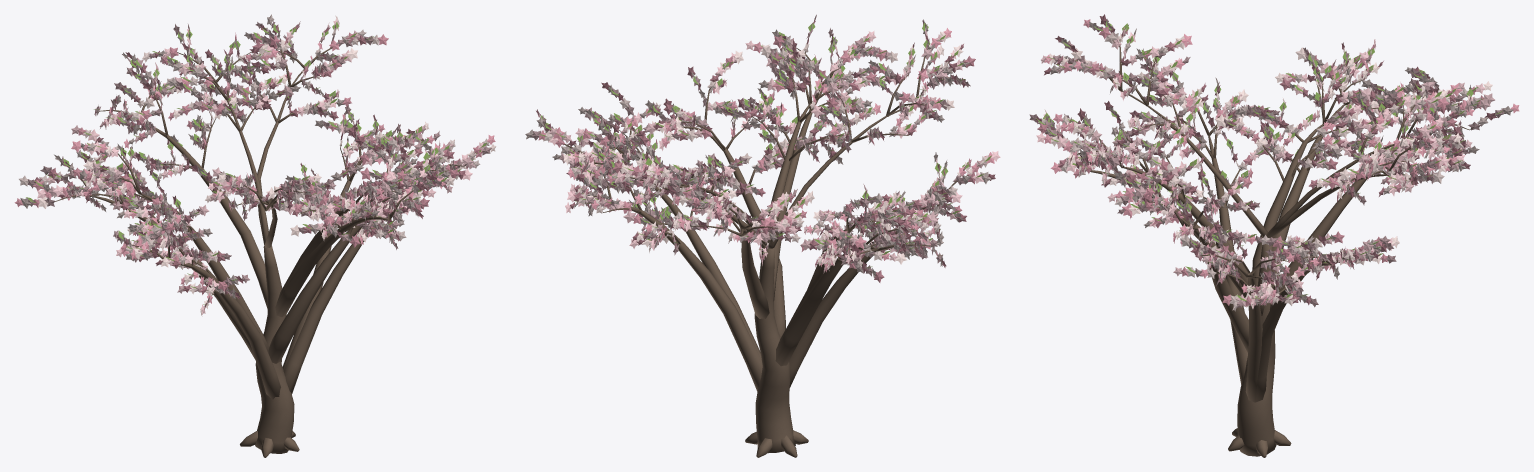
File: ciliegio.glb
3 views of the same model, side by side, from view 1: azimuth 30°, elevation 25°; view 2: azimuth 150°, elevation 25°; view 3: azimuth 270°, elevation 25° (orthographic). The views are drawn at different scales.
Parts seen in each view (by area): view 1: cherry_blossom connected crown 3, cherry_blossom connected crown 1, cherry_blossom connected crown 2, cherry_blossom small emerging leaves 1, cherry_blossom irregular trunk, cherry_blossom spreading bough 1, cherry_blossom spreading bough 6, cherry_blossom spreading bough 5, cherry_blossom spreading bough 7, cherry_blossom spreading bough 3, cherry_blossom spreading bough 2, cherry_blossom attached fine twigs (+5 smaller); view 2: cherry_blossom connected crown 2, cherry_blossom connected crown 3, cherry_blossom connected crown 1, cherry_blossom irregular trunk, cherry_blossom small emerging leaves 1, cherry_blossom spreading bough 9, cherry_blossom spreading bough 10, cherry_blossom spreading bough 5, cherry_blossom spreading bough 6, cherry_blossom spreading bough 1, cherry_blossom spreading bough 7, cherry_blossom spreading bough 3 (+3 smaller); view 3: cherry_blossom connected crown 3, cherry_blossom connected crown 1, cherry_blossom connected crown 2, cherry_blossom small emerging leaves 1, cherry_blossom irregular trunk, cherry_blossom spreading bough 1, cherry_blossom spreading bough 2, cherry_blossom spreading bough 9, cherry_blossom spreading bough 5, cherry_blossom spreading bough 6, cherry_blossom spreading bough 7, cherry_blossom spreading bough 10 (+5 smaller).
Part boxes in pixels (x1,y1,x2,y2): cherry_blossom connected crown 3: [19, 14, 496, 316]; cherry_blossom connected crown 1: [14, 24, 495, 309]; cherry_blossom connected crown 2: [27, 18, 491, 314]; cherry_blossom small emerging leaves 1: [26, 22, 486, 304]; cherry_blossom irregular trunk: [255, 245, 294, 453]; cherry_blossom spreading bough 1: [283, 215, 376, 393]; cherry_blossom spreading bough 6: [268, 221, 364, 363]; cherry_blossom spreading bough 5: [172, 262, 280, 399]; cherry_blossom spreading bough 7: [155, 128, 267, 308]; cherry_blossom spreading bough 3: [275, 216, 387, 317]; cherry_blossom spreading bough 2: [140, 193, 269, 353]; cherry_blossom attached fine twigs: [27, 23, 483, 291]; cherry_blossom connected crown 2: [532, 14, 1000, 276]; cherry_blossom connected crown 3: [525, 23, 991, 277]; cherry_blossom connected crown 1: [536, 20, 995, 282]; cherry_blossom irregular trunk: [754, 247, 795, 453]; cherry_blossom small emerging leaves 1: [539, 23, 991, 268]; cherry_blossom spreading bough 9: [630, 206, 762, 391]; cherry_blossom spreading bough 10: [775, 246, 876, 366]; cherry_blossom spreading bough 5: [789, 230, 897, 387]; cherry_blossom spreading bough 6: [710, 135, 785, 337]; cherry_blossom spreading bough 1: [655, 185, 761, 359]; cherry_blossom spreading bough 7: [740, 228, 769, 318]; cherry_blossom spreading bough 3: [773, 90, 822, 300]; cherry_blossom connected crown 3: [1037, 19, 1513, 311]; cherry_blossom connected crown 1: [1036, 14, 1519, 306]; cherry_blossom connected crown 2: [1029, 22, 1503, 308]; cherry_blossom small emerging leaves 1: [1036, 21, 1502, 301]; cherry_blossom irregular trunk: [1237, 244, 1276, 456]; cherry_blossom spreading bough 1: [1245, 272, 1262, 402]; cherry_blossom spreading bough 2: [1252, 124, 1323, 286]; cherry_blossom spreading bough 9: [1256, 262, 1329, 402]; cherry_blossom spreading bough 5: [1208, 135, 1247, 384]; cherry_blossom spreading bough 6: [1187, 226, 1248, 353]; cherry_blossom spreading bough 7: [1270, 135, 1415, 309]; cherry_blossom spreading bough 10: [1272, 104, 1344, 286].
Size of the model in its own units: 7.36 by 6 by 7.04.
Materials: 6 (6 with a texture image).
